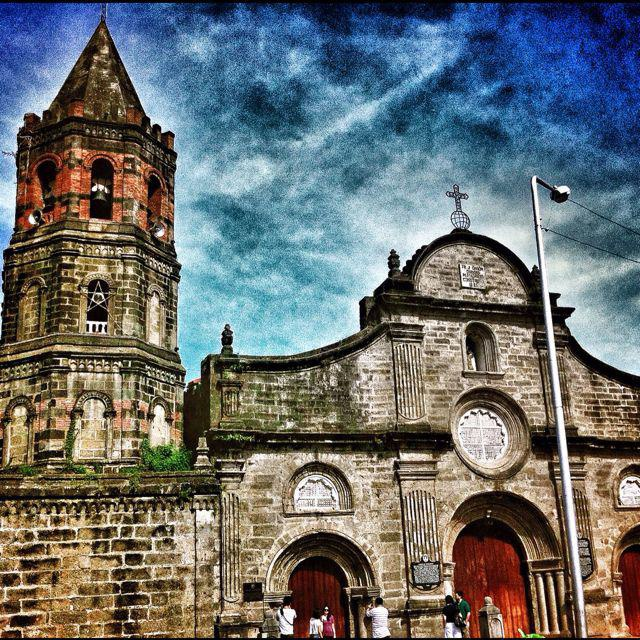barasoain_church_malolos_bulacan: (1, 2, 640, 636)
